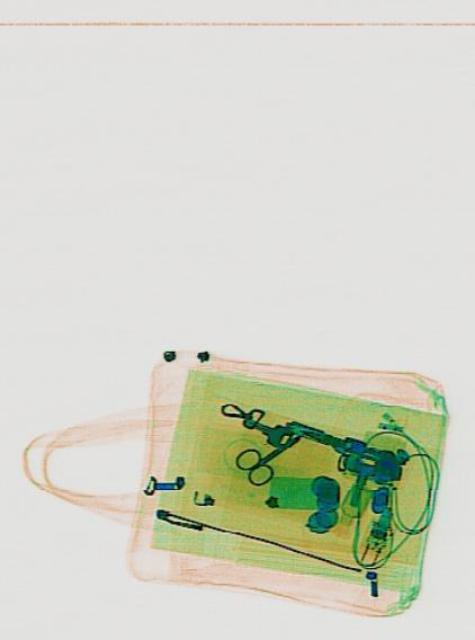Scissors: (230, 416, 309, 494)
